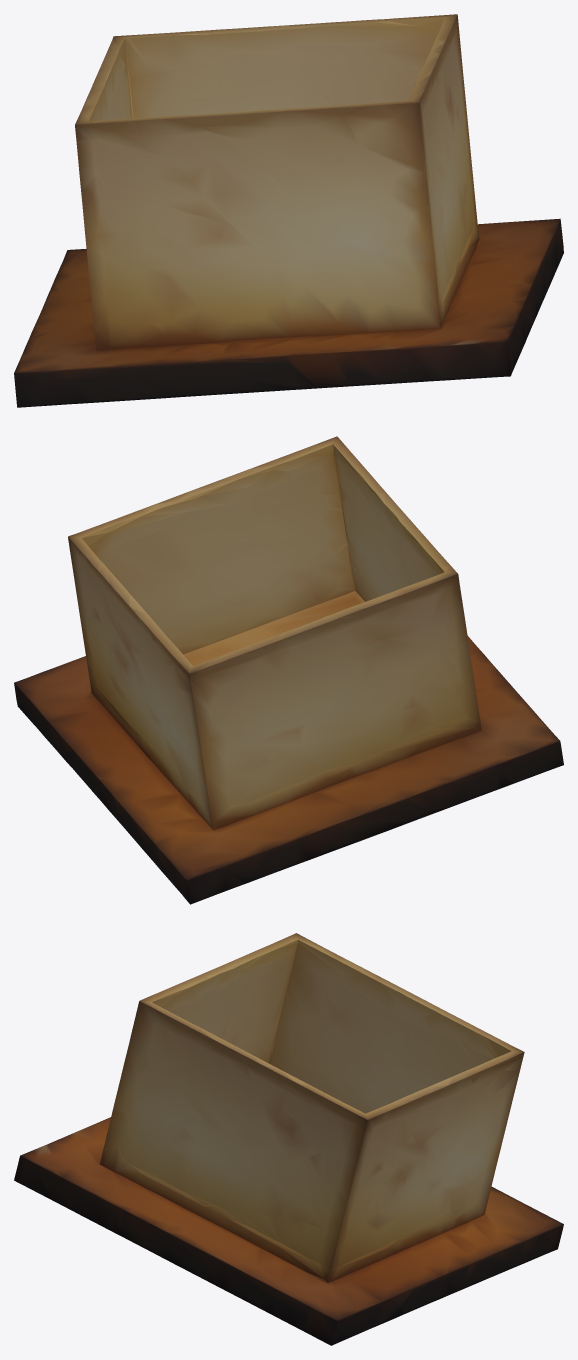
File: sam3d_mesh_00.obj
3 views of the same model, one above another, from view 1: azimuth 30°, elevation 25°; view 2: azimuth 150°, elevation 25°; view 3: azimuth 270°, elevation 25° (orthographic). The views are drawn at different scales.
Bounding box in the file's own units: 0.5231 × 0.2923 × 0.5177.
